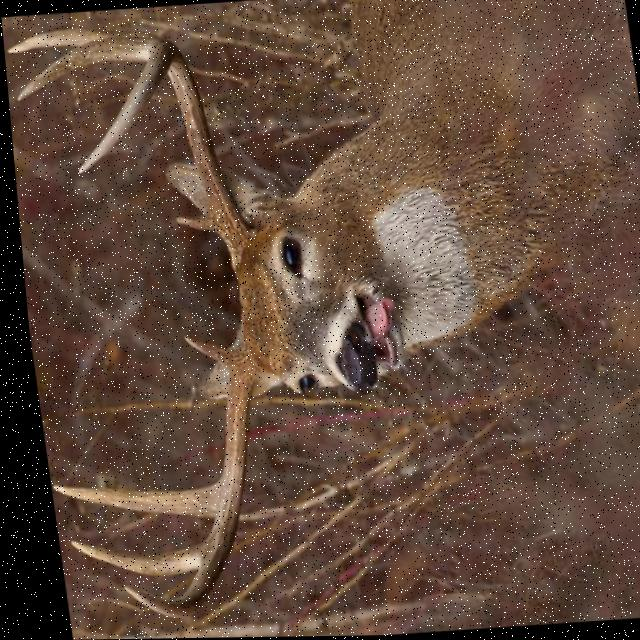L-F: (113, 340, 254, 617)
L-G1: (177, 334, 224, 370)
L-G2: (43, 482, 210, 518)
L-G3: (60, 539, 197, 575)
R-F: (74, 38, 252, 273)
R-G1: (172, 208, 210, 231)
